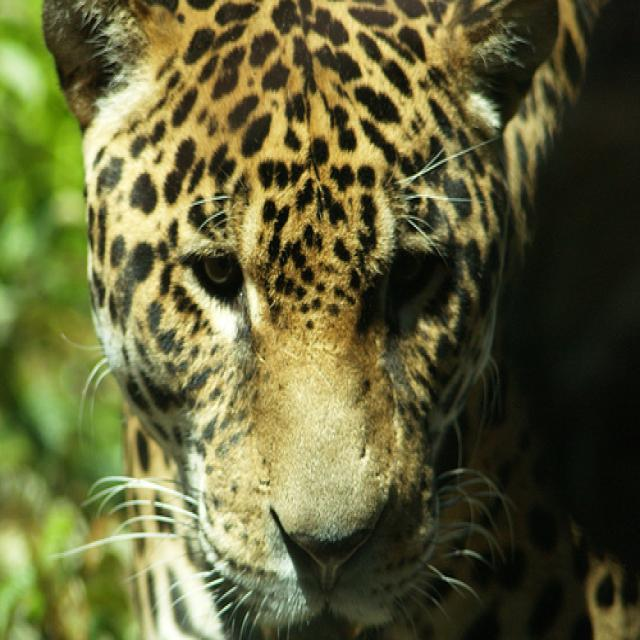Leopard: (40, 0, 638, 637)
